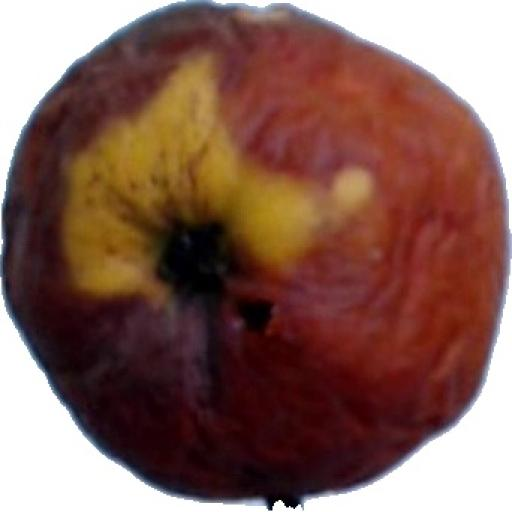apple-overripe: (0, 0, 512, 485)
